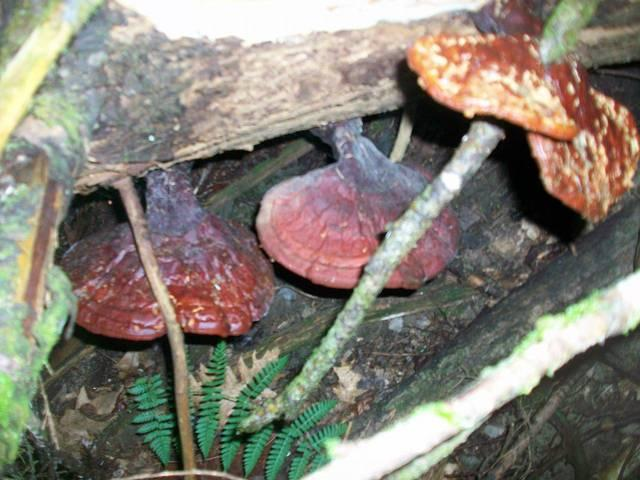Non-edible Mushroom: (405, 27, 639, 224), (57, 166, 276, 342), (254, 116, 461, 291)
